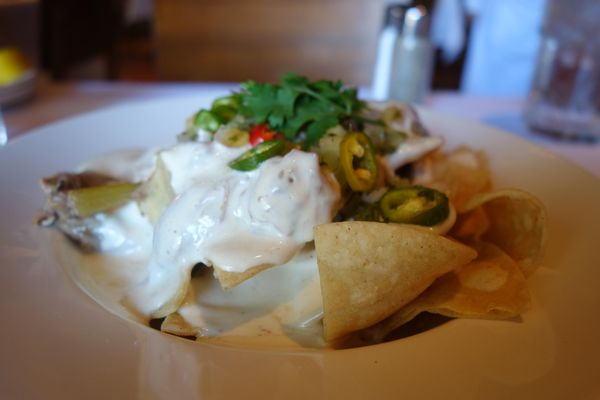pizza: (522, 0, 600, 144)
sushi: (38, 51, 578, 395)
